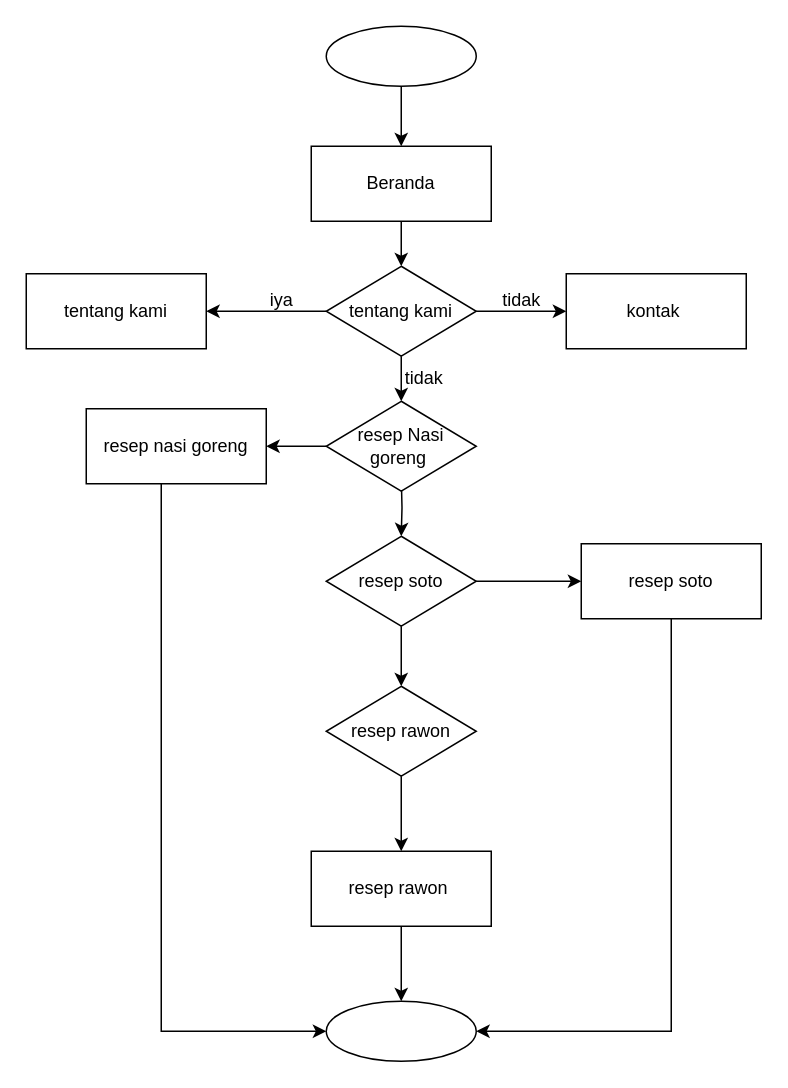
Some shapes in this 788 by 1088 pixel diagram are drawn without their labels. The shapes that lost their labels are listed below. From the top down, each one's centre as x and y in pixels, then its label:
point (400, 55): Mulai
point (400, 1030): selesai
